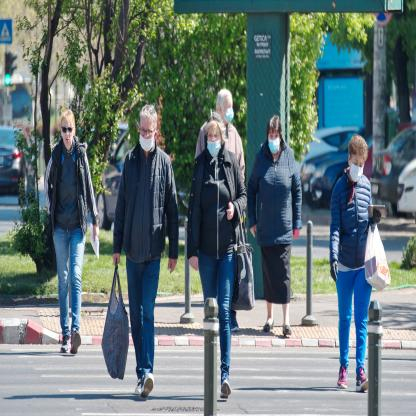dress: (107, 140, 177, 276), (185, 142, 247, 262), (124, 230, 166, 378), (192, 232, 235, 370), (329, 236, 374, 360), (45, 136, 100, 236), (252, 143, 301, 250), (48, 213, 90, 337), (325, 163, 371, 269), (260, 230, 295, 309), (207, 136, 223, 158), (350, 160, 363, 184), (268, 131, 281, 154), (139, 134, 156, 150), (224, 107, 235, 126)
